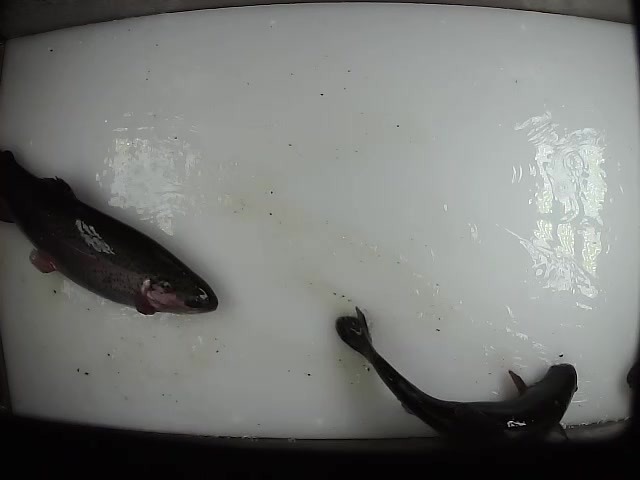fish: (334, 305, 578, 472), (1, 149, 219, 317)
